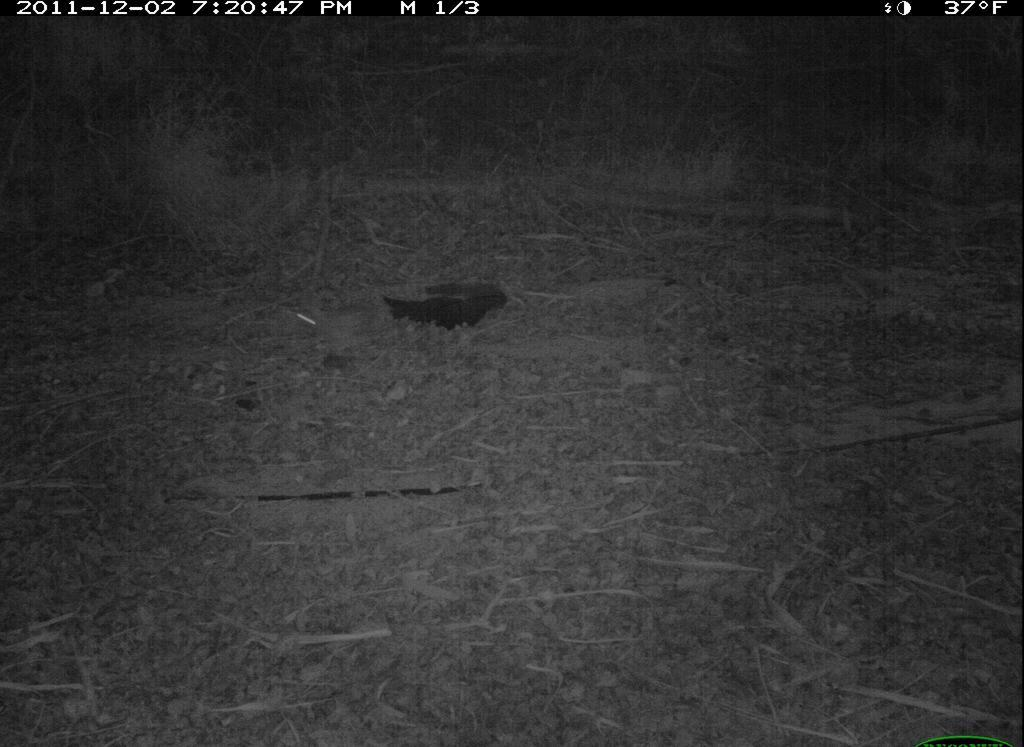rabbit: (284, 291, 386, 361)
